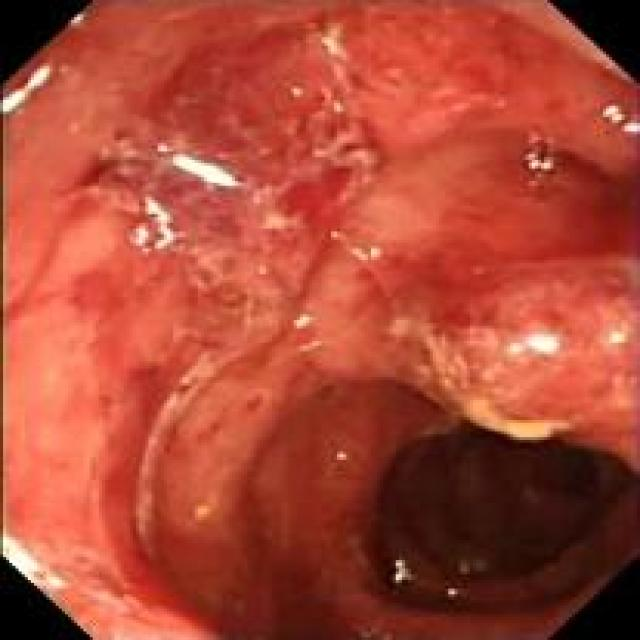blood: (77, 9, 370, 198), (103, 336, 218, 637)
contrast: (403, 428, 620, 576)
specularity: (123, 195, 175, 257), (4, 536, 60, 592), (170, 152, 241, 193), (2, 64, 56, 114), (597, 98, 638, 136), (504, 331, 556, 357), (388, 555, 416, 587), (521, 152, 558, 174), (347, 243, 379, 264), (287, 309, 314, 329), (605, 328, 629, 347), (151, 138, 172, 157), (65, 7, 86, 26), (446, 581, 463, 600), (336, 447, 353, 461)
